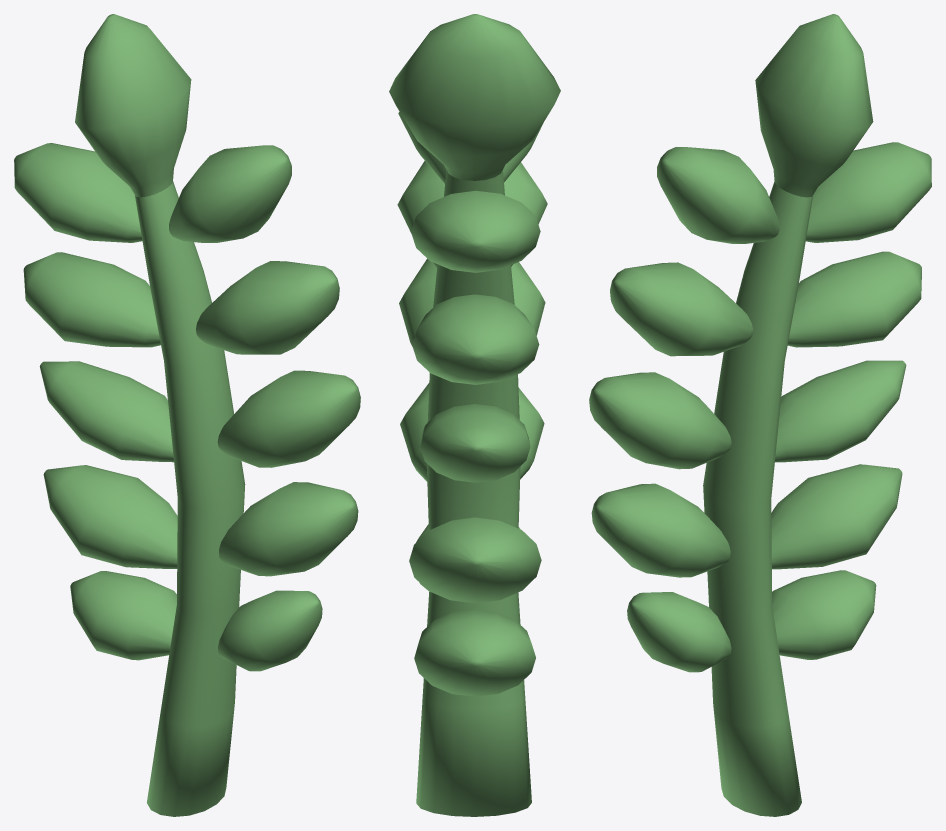
The model's file is rumput laut gelombang.fbx.
The picture shows the model from 3 angles, left to right: view 1: azimuth 30°, elevation 25°; view 2: azimuth 150°, elevation 25°; view 3: azimuth 270°, elevation 25°; orthographic projection. The views are drawn at different scales.
Visible parts, largest first — view 1: rumput laut.008; view 2: rumput laut.008; view 3: rumput laut.008.
Part boxes in pixels (<box>): rumput laut.008: <box>14,14,360,816</box>; rumput laut.008: <box>389,14,560,816</box>; rumput laut.008: <box>589,14,931,816</box>.
Bounding box in the file's own units: 253 × 864 × 352.
